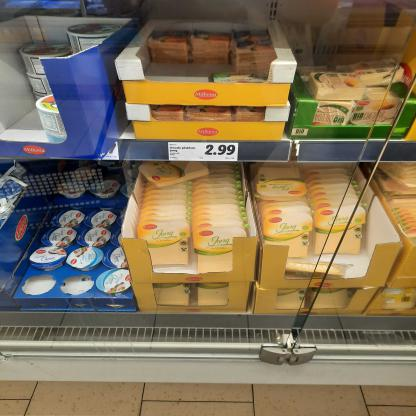prtg: (169, 143, 239, 162), (102, 142, 120, 161)
